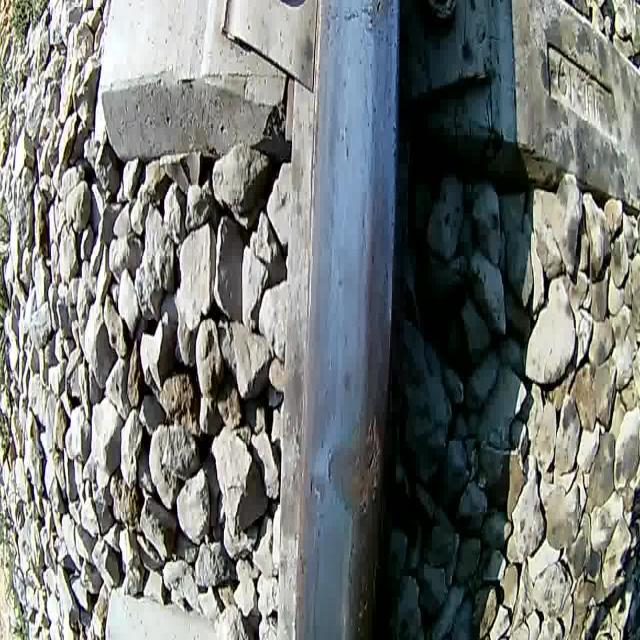Cracks: (340, 0, 398, 40), (346, 533, 356, 591), (324, 442, 336, 490), (370, 553, 379, 603)
Spallings: (361, 409, 382, 517)
Squats: (303, 404, 388, 530)
